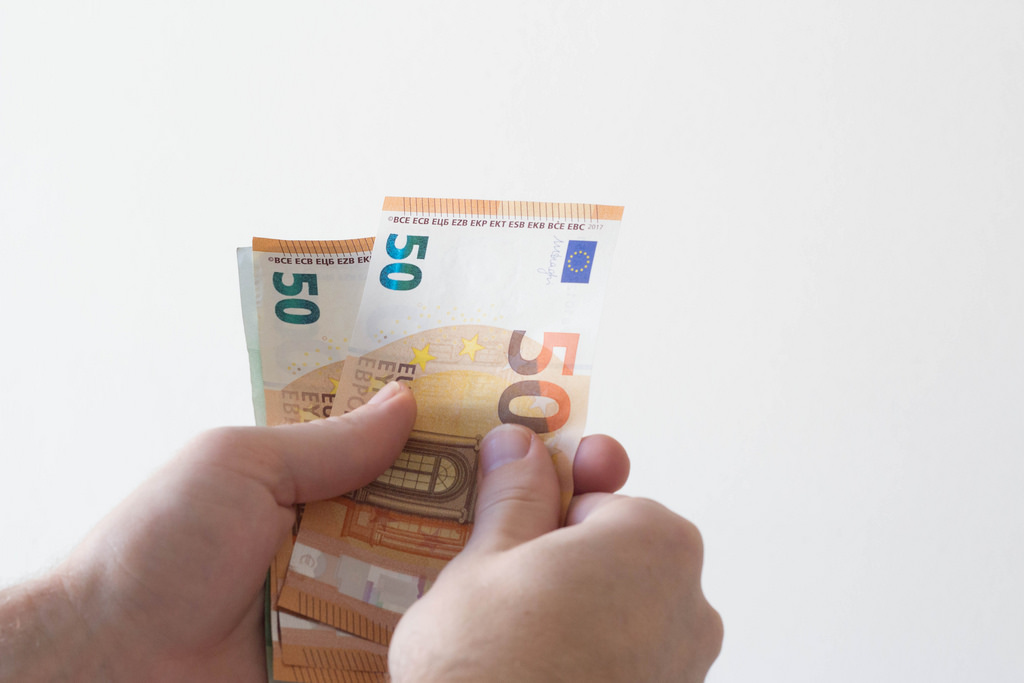billete: (234, 192, 625, 683)
